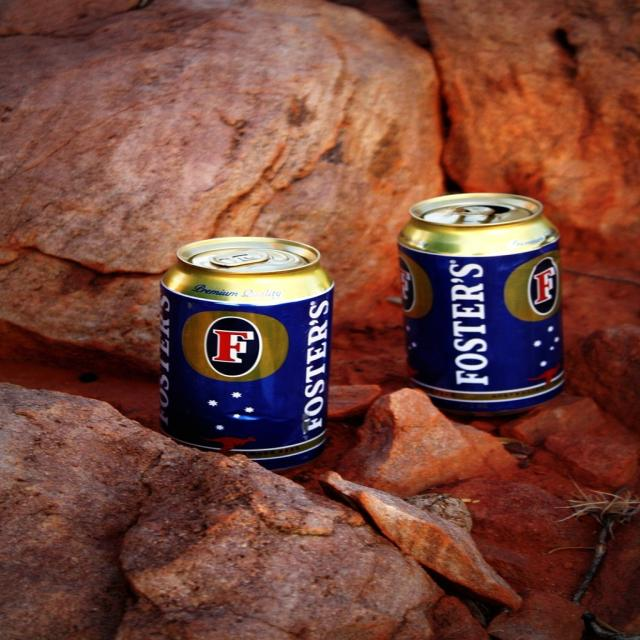fosters: (179, 309, 293, 384), (499, 253, 565, 324), (399, 253, 433, 318)
